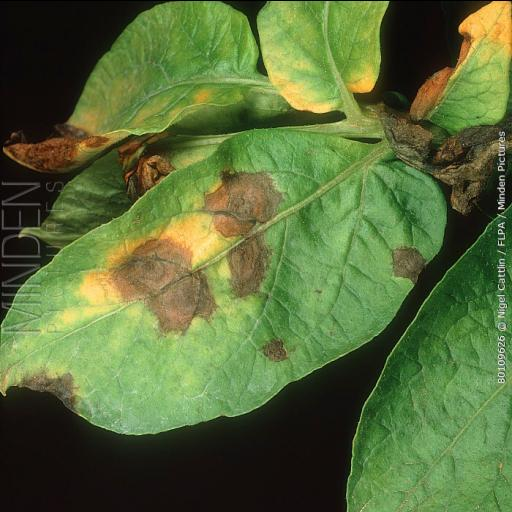disease_tomato: (0, 118, 452, 436)
